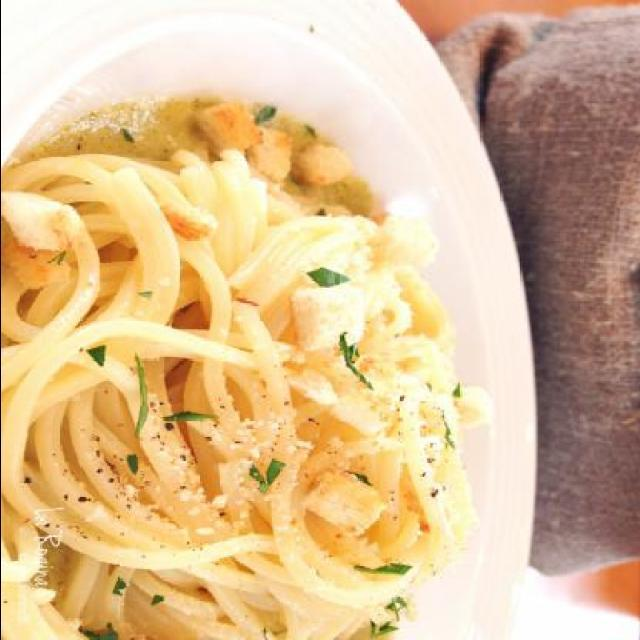Oil pasta: (1, 118, 541, 640)
